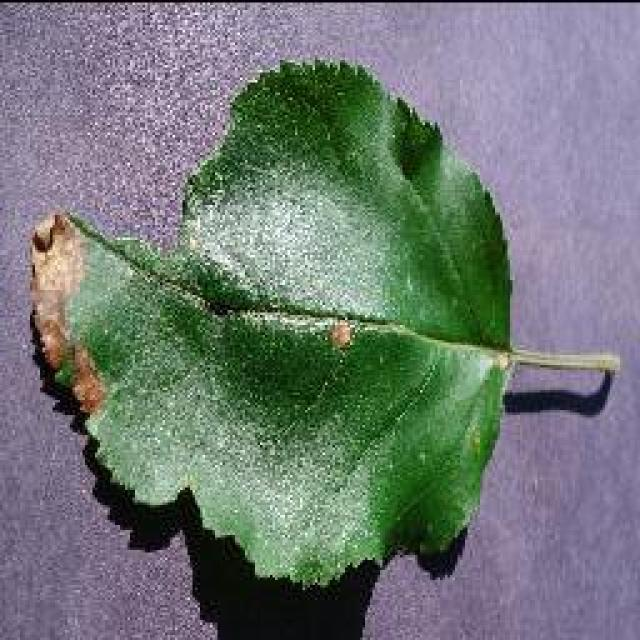apple healthy: (25, 55, 617, 637)
